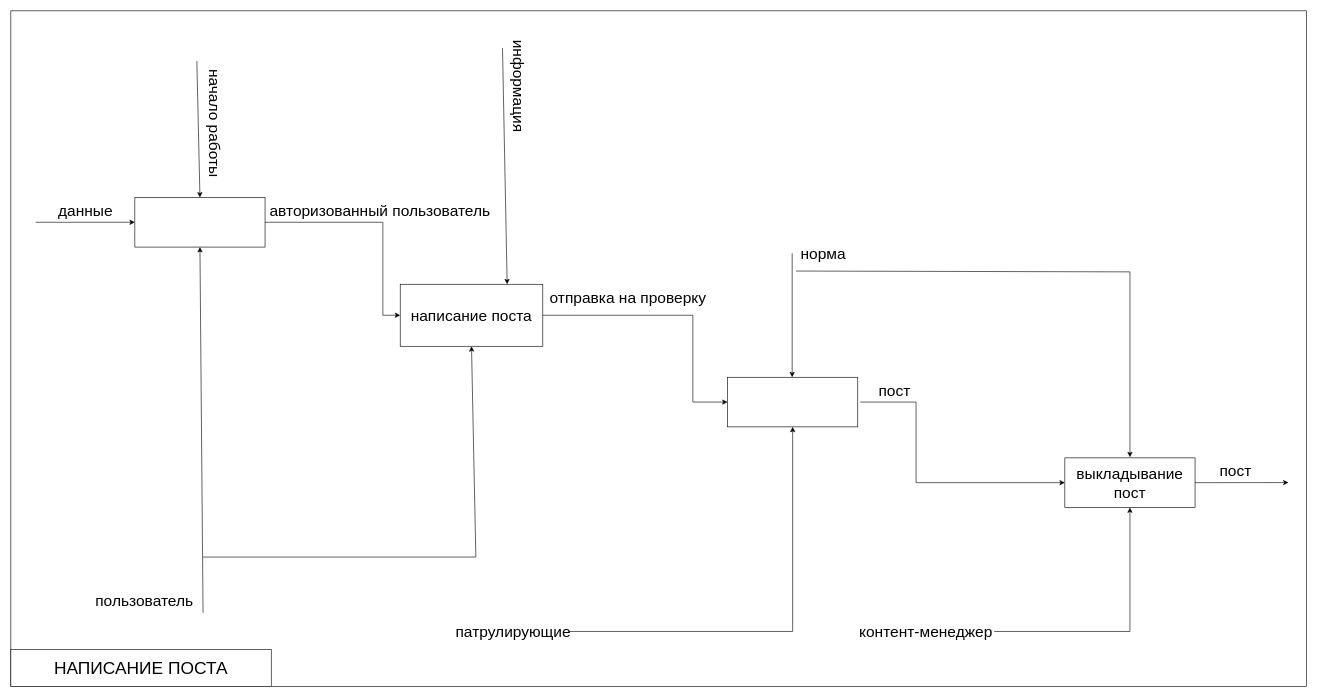
The diagram is 1318 pixels wide and 698 high, and some of its shapes have lost their labels. The shapes that lost their labels are listed below. From the top down, each one's centre as x and y in pixels, then its label:
(199,222): авторизация
(792,402): проверка поста
